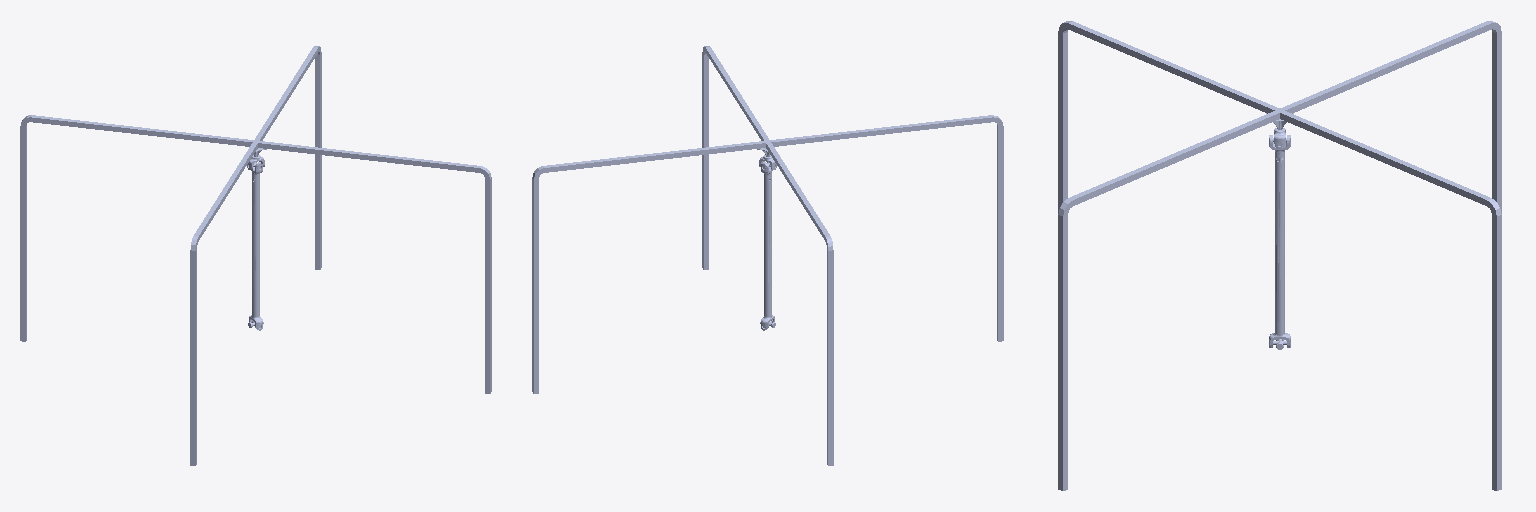
The robot description file, URDF, robot "arm_urdf_9":
<?xml version="1.0" encoding="utf-8"?>
<!-- This URDF was automatically created by SolidWorks to URDF Exporter! Originally created by [author] ([email redacted]) 
     Commit Version: 1.6.0-1-g15f4949  Build Version: 1.6.7594.29634
     For more information, please see http://wiki.ros.org/sw_urdf_exporter -->
<robot
  name="arm_urdf_9">

  <link name="world" /> 
  <joint name="world_to_base_link" type="fixed">
    <parent link="world"/>
    <child link="base_link"/>
    <origin xyz="0 0 0.85" rpy="0 0 0"/>
  </joint>

  <link
    name="base_link">
    <inertial>
      <origin
        xyz="-3.30401761415577E-07 -8.15879123844399E-08 -0.171811205539945"
        rpy="0 0 0" />
      <mass
        value="2.87260533420885" />
      <inertia
        ixx="1.00544706217443"
        ixy="-1.56950956024158E-09"
        ixz="1.24228781815357E-07"
        iyy="1.00544450138953"
        iyz="3.13171517737472E-08"
        izz="1.51302717704261" />
    </inertial>
    <visual>
      <origin
        xyz="0 0 0"
        rpy="0 0 0" />
      <geometry>
        <mesh
          filename="package://arm_urdf_9/meshes/base_link.STL" />
      </geometry>
      <material
        name="">
        <color
          rgba="0.792156862745098 0.819607843137255 0.933333333333333 1" />
      </material>
    </visual>
    <collision>
      <origin
        xyz="0 0 0"
        rpy="0 0 0" />
      <geometry>
        <mesh
          filename="package://arm_urdf_9/meshes/base_link.STL" />
      </geometry>
    </collision>
  </link>
  <link
    name="top-link">
    <inertial>
      <origin
        xyz="1.22453917124343E-07 4.54438613822772E-09 -0.00924358347128509"
        rpy="0 0 0" />
      <mass
        value="0.0323596733773181" />
      <inertia
        ixx="7.55392831146743E-06"
        ixy="6.50055325428703E-11"
        ixz="2.14614859802824E-12"
        iyy="1.82259507284938E-05"
        iyz="-9.7015939977823E-13"
        izz="1.62361180068E-05" />
    </inertial>
    <visual>
      <origin
        xyz="0 0 0"
        rpy="0 0 0" />
      <geometry>
        <mesh
          filename="package://arm_urdf_9/meshes/top-link.STL" />
      </geometry>
      <material
        name="">
        <color
          rgba="0.792156862745098 0.819607843137255 0.933333333333333 1" />
      </material>
    </visual>
    <collision>
      <origin
        xyz="0 0 0"
        rpy="0 0 0" />
      <geometry>
        <mesh
          filename="package://arm_urdf_9/meshes/top-link.STL" />
      </geometry>
    </collision>
  </link>
  <joint
    name="joint1"
    type="continuous">
    <origin
      xyz="0 0 0"
      rpy="0 0 0" />
    <parent
      link="base_link" />
    <child
      link="top-link" />
    <axis
      xyz="0 0 1" />
    <limit
      lower="0"
      upper="6"
      effort="0"
      velocity="0" />
    <dynamics
      friction="0.01" />
  </joint>
  <link
    name="crossbar">
    <inertial>
      <origin
        xyz="4.9361886397814E-08 2.56190435532488E-09 2.77555756156289E-17"
        rpy="0 0 0" />
      <mass
        value="0.0185865713783782" />
      <inertia
        ixx="4.09739927419315E-06"
        ixy="-5.54410070107033E-13"
        ixz="2.19723198367424E-22"
        iyy="7.42166622150847E-06"
        iyz="8.26818556444033E-12"
        izz="4.09739648427647E-06" />
    </inertial>
    <visual>
      <origin
        xyz="0 0 0"
        rpy="0 0 0" />
      <geometry>
        <mesh
          filename="package://arm_urdf_9/meshes/crossbar.STL" />
      </geometry>
      <material
        name="">
        <color
          rgba="0.792156862745098 0.819607843137255 0.933333333333333 1" />
      </material>
    </visual>
    <collision>
      <origin
        xyz="0 0 0"
        rpy="0 0 0" />
      <geometry>
        <mesh
          filename="package://arm_urdf_9/meshes/crossbar.STL" />
      </geometry>
    </collision>
  </link>
  <joint
    name="joint2"
    type="revolute">
    <origin
      xyz="0 0 -0.025"
      rpy="1.5708 0 0" />
    <parent
      link="top-link" />
    <child
      link="crossbar" />
    <axis
      xyz="1 0 0" />
    <limit
      lower="-1.5"
      upper="1.5"
      effort="0"
      velocity="0" />
    <dynamics
      friction="0.01" />
  </joint>
  <link
    name="middle-link">
    <inertial>
      <origin
        xyz="-5.67049394196995E-06 1.16782236762869E-08 -0.327228482133512"
        rpy="0 0 0" />
      <mass
        value="0.475246778728706" />
      <inertia
        ixx="0.0178243730885176"
        ixy="2.97210970662513E-09"
        ixz="7.61997708822136E-07"
        iyy="0.0178456192570226"
        iyz="-1.09658237066026E-09"
        izz="7.79528566357622E-05" />
    </inertial>
    <visual>
      <origin
        xyz="0 0 0"
        rpy="0 0 0" />
      <geometry>
        <mesh
          filename="package://arm_urdf_9/meshes/middle-link.STL" />
      </geometry>
      <material
        name="">
        <color
          rgba="0.792156862745098 0.819607843137255 0.933333333333333 1" />
      </material>
    </visual>
    <collision>
      <origin
        xyz="0 0 0"
        rpy="0 0 0" />
      <geometry>
        <mesh
          filename="package://arm_urdf_9/meshes/middle-link.STL" />
      </geometry>
    </collision>
  </link>
  <joint
    name="joint3"
    type="revolute">
    <origin
      xyz="0 0 0"
      rpy="-1.5708 1.5708 0" />
    <parent
      link="crossbar" />
    <child
      link="middle-link" />
    <axis
      xyz="1 0 0" />
    <limit
      lower="-1.5"
      upper="1.5"
      effort="0"
      velocity="0" />
    <dynamics
      friction="0.01" />
  </joint>
  <link
    name="crossbar2">
    <inertial>
      <origin
        xyz="4.93618865643475E-08 2.56190391123567E-09 3.81639164714898E-17"
        rpy="0 0 0" />
      <mass
        value="0.0185865713783782" />
      <inertia
        ixx="4.09739927419315E-06"
        ixy="-5.54410068536034E-13"
        ixz="8.96637762704468E-22"
        iyy="7.42166622150847E-06"
        iyz="8.26818556470327E-12"
        izz="4.09739648427647E-06" />
    </inertial>
    <visual>
      <origin
        xyz="0 0 0"
        rpy="0 0 0" />
      <geometry>
        <mesh
          filename="package://arm_urdf_9/meshes/crossbar2.STL" />
      </geometry>
      <material
        name="">
        <color
          rgba="0.792156862745098 0.819607843137255 0.933333333333333 1" />
      </material>
    </visual>
    <collision>
      <origin
        xyz="0 0 0"
        rpy="0 0 0" />
      <geometry>
        <mesh
          filename="package://arm_urdf_9/meshes/crossbar2.STL" />
      </geometry>
    </collision>
  </link>
  <joint
    name="joint4"
    type="revolute">
    <origin
      xyz="0 0 -0.65"
      rpy="-1.5708 0 3.1416" />
    <parent
      link="middle-link" />
    <child
      link="crossbar2" />
    <axis
      xyz="1 0 0" />
    <limit
      lower="-1.5"
      upper="1.5"
      effort="0"
      velocity="0" />
    <dynamics
      friction="0.01" />
  </joint>
  <link
    name="end-effector">
    <inertial>
      <origin
        xyz="3.14848906148024E-08 -5.72836209022931E-10 -0.0356901523983696"
        rpy="0 0 0" />
      <mass
        value="0.0855980769451605" />
      <inertia
        ixx="4.58199537370242E-05"
        ixy="1.60691899374593E-11"
        ixz="-6.16258339494249E-11"
        iyy="5.6392751791086E-05"
        iyz="1.37503787058319E-12"
        izz="4.76465680795506E-05" />
    </inertial>
    <visual>
      <origin
        xyz="0 0 0"
        rpy="0 0 0" />
      <geometry>
        <mesh
          filename="package://arm_urdf_9/meshes/end-effector.STL" />
      </geometry>
      <material
        name="">
        <color
          rgba="0.792156862745098 0.819607843137255 0.933333333333333 1" />
      </material>
    </visual>
    <collision>
      <origin
        xyz="0 0 0"
        rpy="0 0 0" />
      <geometry>
        <mesh
          filename="package://arm_urdf_9/meshes/end-effector.STL" />
      </geometry>
    </collision>
  </link>
  <joint
    name="joint5"
    type="revolute">
    <origin
      xyz="0 0 0"
      rpy="1.5708 1.5708 0" />
    <parent
      link="crossbar2" />
    <child
      link="end-effector" />
    <axis
      xyz="1 0 0" />
    <limit
      lower="-1.5"
      upper="1.5"
      effort="0"
      velocity="0" />
    <dynamics
      friction="0.01" />
  </joint>

  <!-- Transmissions for ROS Control -->
<!--
  <transmission name="tran1">
    <type>transmission_interface/SimpleTransmission</type>
    <joint name="joint1">
      <hardwareInterface>EffortJointInterface</hardwareInterface>
    </joint>
    <actuator name="motor1">
      <hardwareInterface>EffortJointInterface</hardwareInterface>
      <mechanicalReduction>1</mechanicalReduction>
    </actuator>
  </transmission>

  <transmission name="tran2">
    <type>transmission_interface/SimpleTransmission</type>
    <joint name="joint2">
      <hardwareInterface>EffortJointInterface</hardwareInterface>
    </joint>
    <actuator name="motor2">
      <hardwareInterface>EffortJointInterface</hardwareInterface>
      <mechanicalReduction>1</mechanicalReduction>
    </actuator>
  </transmission>

  <transmission name="tran3">
    <type>transmission_interface/SimpleTransmission</type>
    <joint name="joint3">
      <hardwareInterface>EffortJointInterface</hardwareInterface>
    </joint>
    <actuator name="motor3">
      <hardwareInterface>EffortJointInterface</hardwareInterface>
      <mechanicalReduction>1</mechanicalReduction>
    </actuator>
  </transmission>

  <transmission name="tran4">
    <type>transmission_interface/SimpleTransmission</type>
    <joint name="joint4">
      <hardwareInterface>EffortJointInterface</hardwareInterface>
    </joint>
    <actuator name="motor4">
      <hardwareInterface>EffortJointInterface</hardwareInterface>
      <mechanicalReduction>1</mechanicalReduction>
    </actuator>
  </transmission>

  <transmission name="tran5">
    <type>transmission_interface/SimpleTransmission</type>
    <joint name="joint5">
      <hardwareInterface>EffortJointInterface</hardwareInterface>
    </joint>
    <actuator name="motor5">
      <hardwareInterface>EffortJointInterface</hardwareInterface>
      <mechanicalReduction>1</mechanicalReduction>
    </actuator>
  </transmission>
  -->
  <!-- ros_control plugin -->
  <!--
  <transmission name="trans_joint1">
    <type>transmission_interface/SimpleTransmission</type>
    <joint name="joint1">
      <hardwareInterface>hardware_interface/EffortJointInterface</hardwareInterface>
    </joint>
    <actuator name="motor1">
      <hardwareInterface>hardware_interface/EffortJointInterface</hardwareInterface>
      <mechanicalReduction>1</mechanicalReduction>
    </actuator>
  </transmission>
  <transmission name="trans_joint2">
    <type>transmission_interface/SimpleTransmission</type>
    <joint name="joint2">
      <hardwareInterface>hardware_interface/EffortJointInterface</hardwareInterface>
    </joint>
    <actuator name="joint2_motor">
      <hardwareInterface>hardware_interface/EffortJointInterface</hardwareInterface>
      <mechanicalReduction>1</mechanicalReduction>
    </actuator>
  </transmission>
  <transmission name="trans_joint3">
    <type>transmission_interface/SimpleTransmission</type>
    <joint name="joint3">
      <hardwareInterface>hardware_interface/EffortJointInterface</hardwareInterface>
    </joint>
    <actuator name="joint3_motor">
      <hardwareInterface>hardware_interface/EffortJointInterface</hardwareInterface>
      <mechanicalReduction>1</mechanicalReduction>
    </actuator>
  </transmission>
  <transmission name="trans_joint4">
    <type>transmission_interface/SimpleTransmission</type>
    <joint name="joint4">
      <hardwareInterface>hardware_interface/EffortJointInterface</hardwareInterface>
    </joint>
    <actuator name="joint4_motor">
      <hardwareInterface>hardware_interface/EffortJointInterface</hardwareInterface>
      <mechanicalReduction>1</mechanicalReduction>
    </actuator>
  </transmission>
  <transmission name="trans_joint5">
    <type>transmission_interface/SimpleTransmission</type>
    <joint name="joint5">
      <hardwareInterface>hardware_interface/EffortJointInterface</hardwareInterface>
    </joint>
    <actuator name="joint5_motor">
      <hardwareInterface>hardware_interface/EffortJointInterface</hardwareInterface>
      <mechanicalReduction>1</mechanicalReduction>
    </actuator>
  </transmission>

  <gazebo>
    <plugin name="gazebo_ros_control" filename="libgazebo_ros_control.so">
      <robotNamespace>/arm_urdf_9</robotNamespace>
    </plugin>
  </gazebo>
-->
</robot>

--- Render facts (derived) ---
The picture shows the robot from 3 angles, left to right: view 1: azimuth 30°, elevation 25°; view 2: azimuth 150°, elevation 25°; view 3: azimuth 270°, elevation 25°; orthographic projection.
Model arm_urdf_9 with 7 links and 6 joints (4 revolute, 1 continuous, 1 fixed), rooted at world, posed every joint at zero.
Visible links, largest first — view 1: base_link, middle-link; view 2: base_link, middle-link; view 3: base_link, middle-link.
Boxes of the visible links, x1,y1,x2,y2 form: base_link: (20,46,491,465); middle-link: (249,162,262,330); base_link: (532,46,1003,465); middle-link: (761,162,774,330); base_link: (1058,21,1501,490); middle-link: (1269,135,1290,347).
Size in the robot's own frame: 1.29 by 1.29 by 0.92 metres.
5 mesh visuals loaded from 6 distinct referenced files (5 binary STL); not drawn: 1 (reference not matched to a file when rendering).
